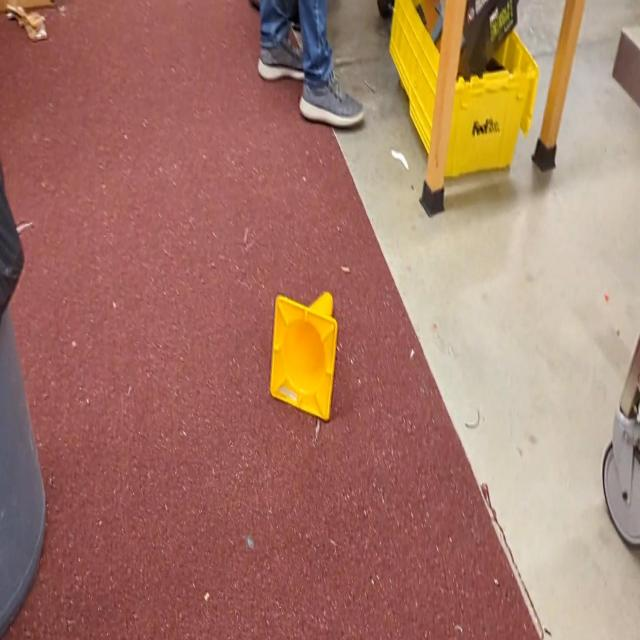frc_cone: (270, 290, 337, 422)
